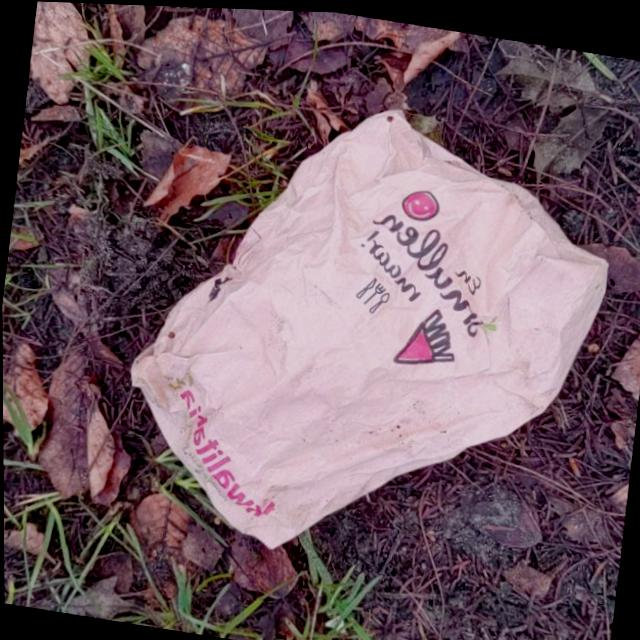Paper: (106, 66, 628, 597)
